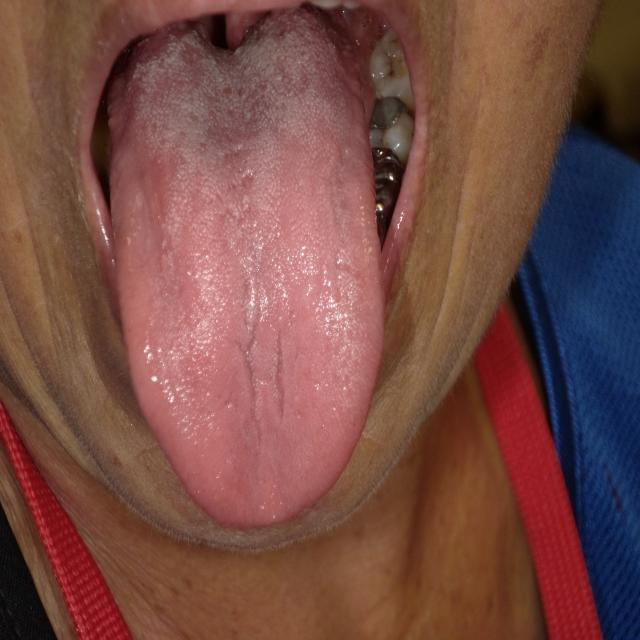baitaishe: (105, 6, 385, 528)
liewenshe: (236, 316, 287, 448)
shenquao: (180, 7, 306, 64)
